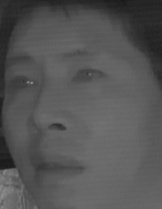eye: (71, 64, 106, 89), (7, 74, 39, 95)
mouth: (26, 148, 84, 185)
